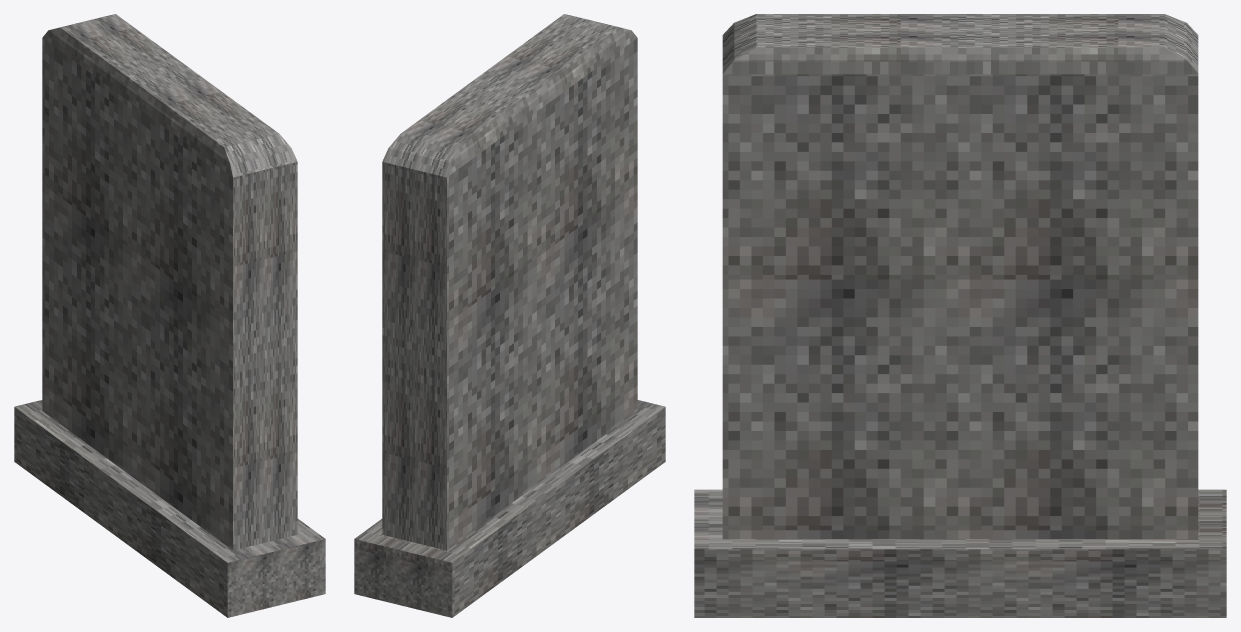
The model's file is PSXGraveStone.glb.
The picture shows the model from 3 angles, left to right: view 1: azimuth 30°, elevation 25°; view 2: azimuth 150°, elevation 25°; view 3: azimuth 270°, elevation 25°; orthographic projection. The views are drawn at different scales.
Visible parts, largest first — view 1: PSXGraveStone; view 2: PSXGraveStone; view 3: PSXGraveStone.
Part boxes in pixels (x1,y1,x2,y2): PSXGraveStone: (14,14,325,617); PSXGraveStone: (354,14,665,617); PSXGraveStone: (694,14,1226,617).
Bounding box in the file's own units: 0.7478 × 3.26 × 2.82.
Materials: 2 (2 with a texture image).
